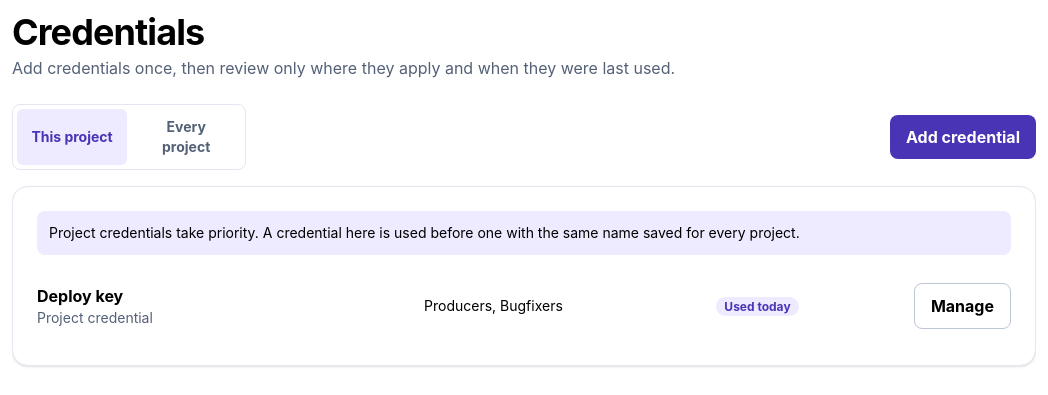
it: shows both scopes of a credential with where it applies and what uses it
expect the text "Add credentials once, then review only where they apply and when they were last used." is shown: met, box [12,58,675,78]
expect the text "Project credentials take priority. A credential here is used before one with the same name saved for every project." is shown: met, box [49,224,800,241]
Click the tab "Every project" at (186, 137), box [131,109,241,165]
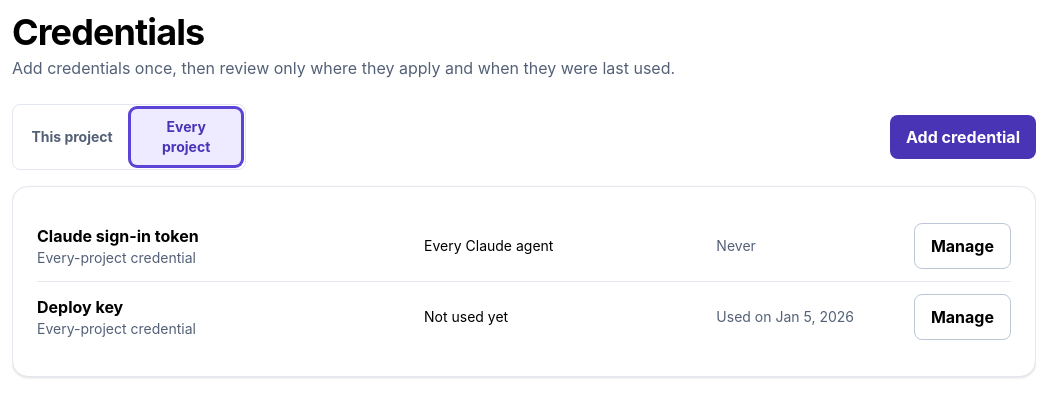
expect the text "Every Claude agent" is shown: met, box [424,237,554,254]
expect the text "Never" is shown: met, box [716,237,756,254]
expect the text "Not used yet" is shown: met, box [424,308,508,325]
